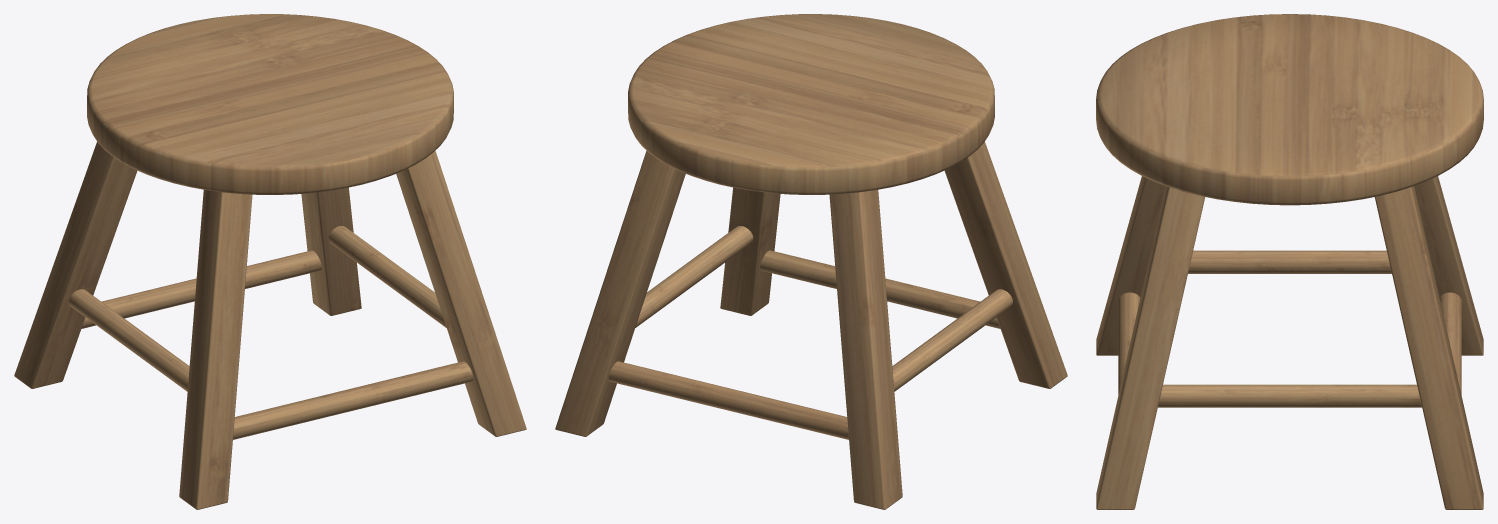
File: Stool.glb
3 renders of one model, left to right at view 1: azimuth 30°, elevation 25°; view 2: azimuth 150°, elevation 25°; view 3: azimuth 270°, elevation 25°, orthographic. The views are drawn at different scales.
Visible parts, largest first — view 1: Stool; view 2: Stool; view 3: Stool.
Boxes of the visible parts, x1,y1,x2,y2 form: Stool: [14, 14, 526, 509]; Stool: [555, 14, 1067, 509]; Stool: [1096, 14, 1483, 509].
Size of the model in its own units: 2.08 by 1.89 by 2.
1 material, 1 textured.
